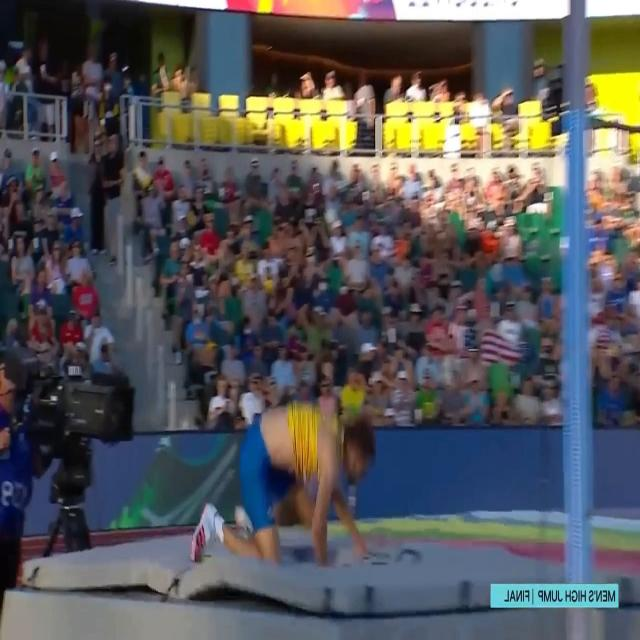land: (190, 396, 378, 570)
